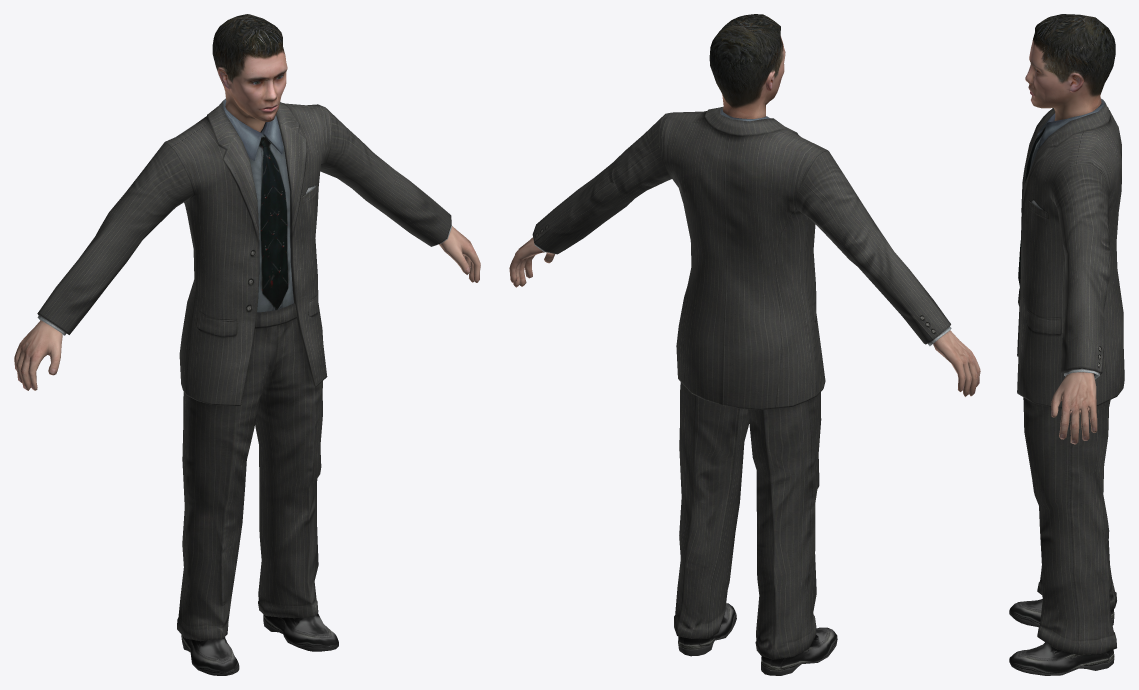
The model's file is business06_m_highpoly.fbx.
3 renders of one model, left to right at view 1: azimuth 30°, elevation 25°; view 2: azimuth 150°, elevation 25°; view 3: azimuth 270°, elevation 25°, orthographic.
Visible parts, largest first — view 1: business06_m_highpoly; view 2: business06_m_highpoly; view 3: business06_m_highpoly.
Boxes of the visible parts, x1,y1,x2,y2 form: business06_m_highpoly: (14, 14, 480, 675); business06_m_highpoly: (509, 14, 980, 675); business06_m_highpoly: (1009, 14, 1124, 675).
Bounding box in the file's own units: 140 × 183 × 30.62.
